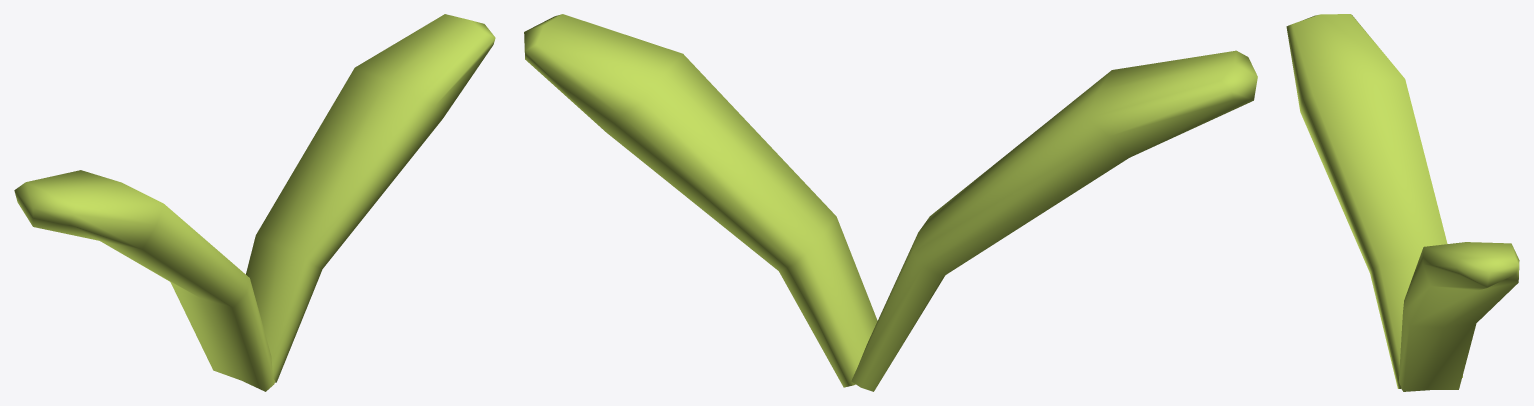
The model's file is grass 02_toon_material_0.001.glb.
3 renders of one model, left to right at view 1: azimuth 30°, elevation 25°; view 2: azimuth 150°, elevation 25°; view 3: azimuth 270°, elevation 25°, orthographic. The views are drawn at different scales.
Visible parts, largest first — view 1: grass 02_toon_material_0.001; view 2: grass 02_toon_material_0.001; view 3: grass 02_toon_material_0.001.
Boxes of the visible parts, <box> form: grass 02_toon_material_0.001: <box>14,14,495,391</box>; grass 02_toon_material_0.001: <box>524,14,1257,391</box>; grass 02_toon_material_0.001: <box>1286,14,1519,391</box>.
Size of the model in its own units: 0.4826 by 0.248 by 0.2004.
1 material, 1 textured.
